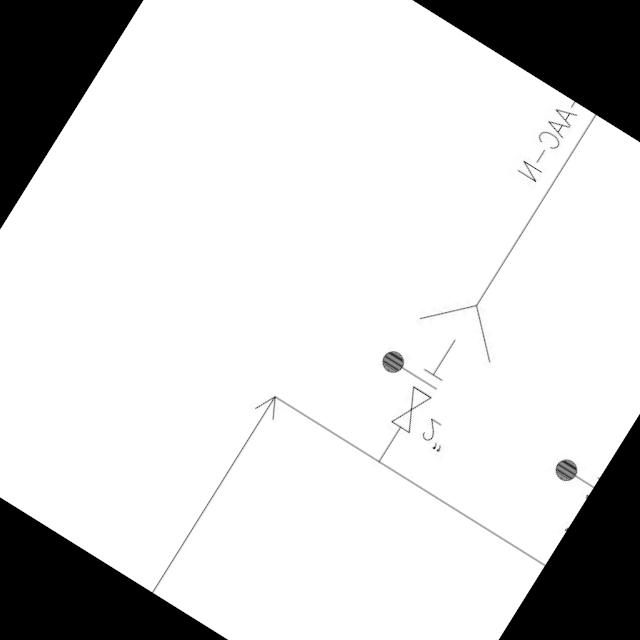GV: (384, 379, 436, 438)
